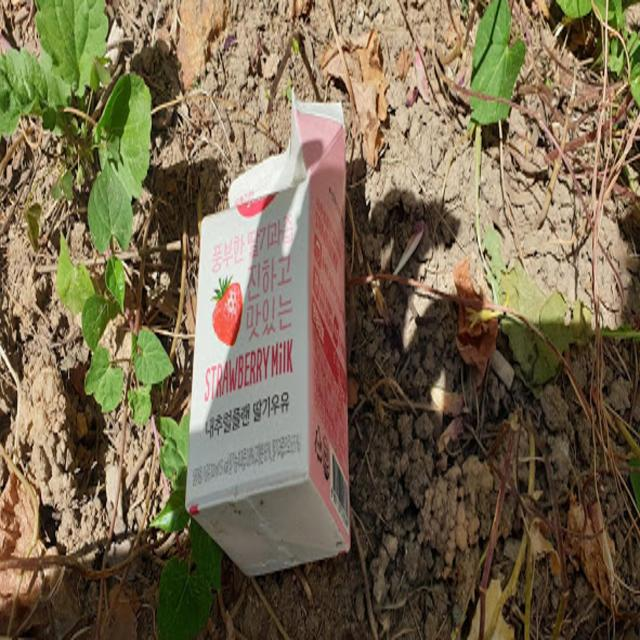paperpack: (185, 91, 351, 575)
